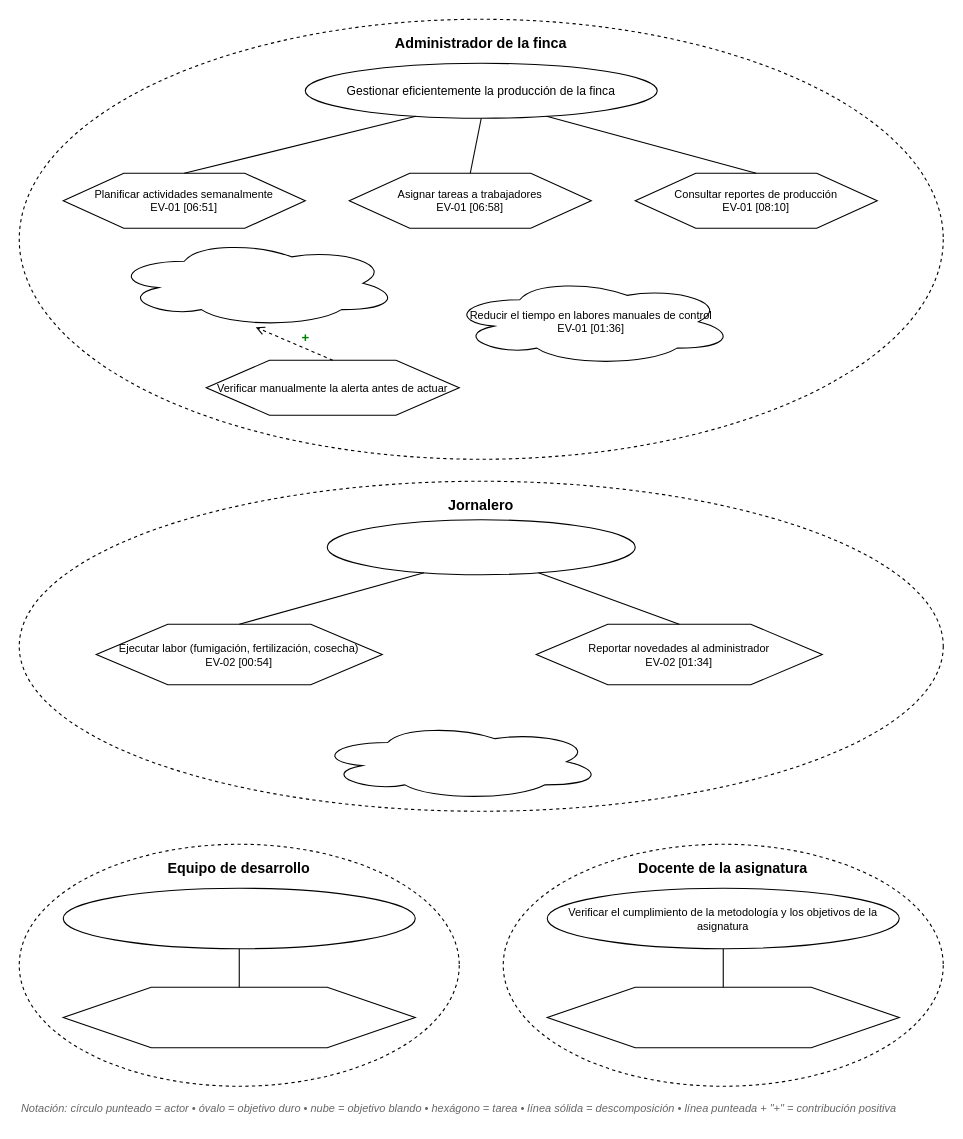
Image size: 963x1139. Some labels were removed from this diagram. Each missing label, with the centre of its shape:
"Analizar, diseñar e implementar el sistema" belongs at (x=238, y=1017).
"Confiar en las recomendaciones de la IA EV-01 [09:02], [09:10]" belongs at (x=255, y=282).
"Cumplir las tareas asignadas" belongs at (x=480, y=547).
"Entregar el SGA conforme a los requisitos definidos" belongs at (x=238, y=918).
"Evaluar los entregables del proyecto" belongs at (x=722, y=1017).
"Minimizar el uso de dispositivos nuevos EV-02 [02:33], [02:43]" belongs at (x=458, y=761).
